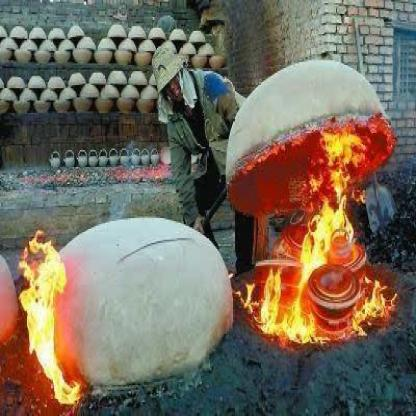fire: (254, 93, 400, 352), (7, 202, 104, 401)
